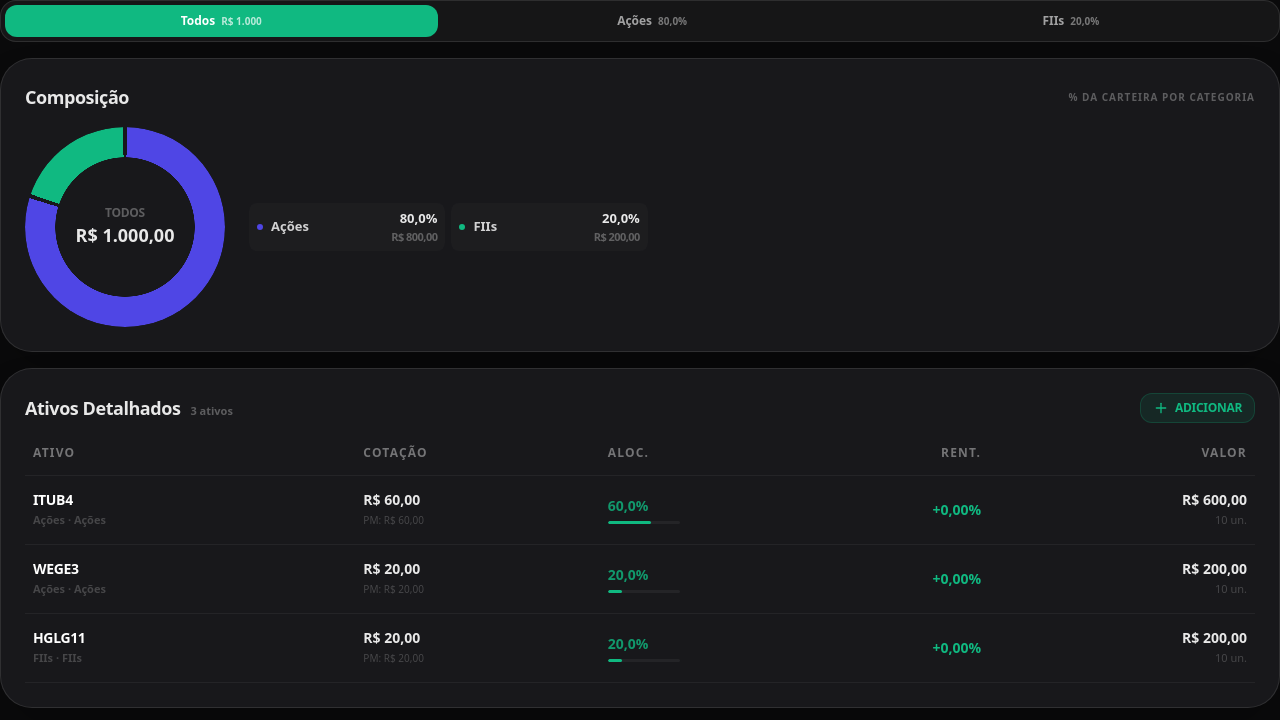
Test: PortfolioPanel › filters by category from a pill and recomputes allocation inside it
Click the button with test id "pill-Ações" at (652, 21), box x1=442 y1=5 x2=863 y2=37
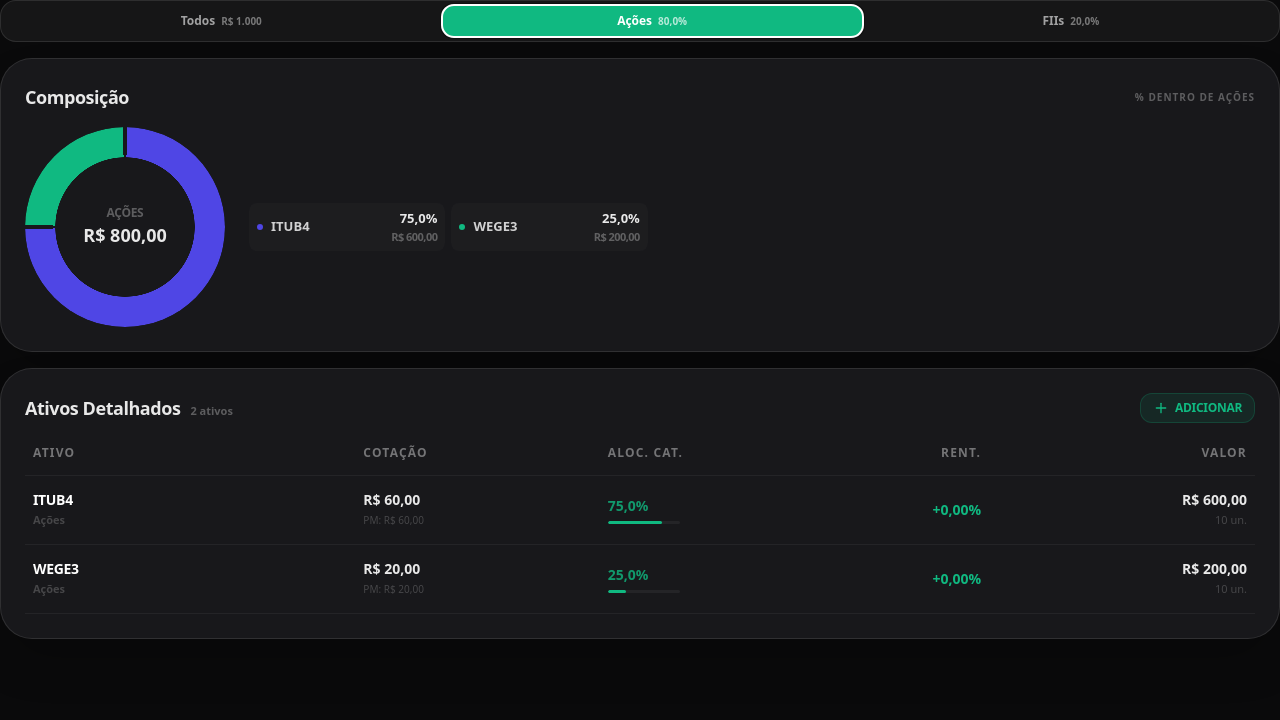
Expected: the number of elements with test id "asset-row" is 2, x1=25 y1=476 x2=1255 y2=545; x1=25 y1=545 x2=1255 y2=614
Expected: the element with test id "asset-row" shows "75,0%", x1=608 y1=496 x2=648 y2=515
Expected: the text "% dentro de Ações" is shown, x1=1135 y1=90 x2=1255 y2=104
